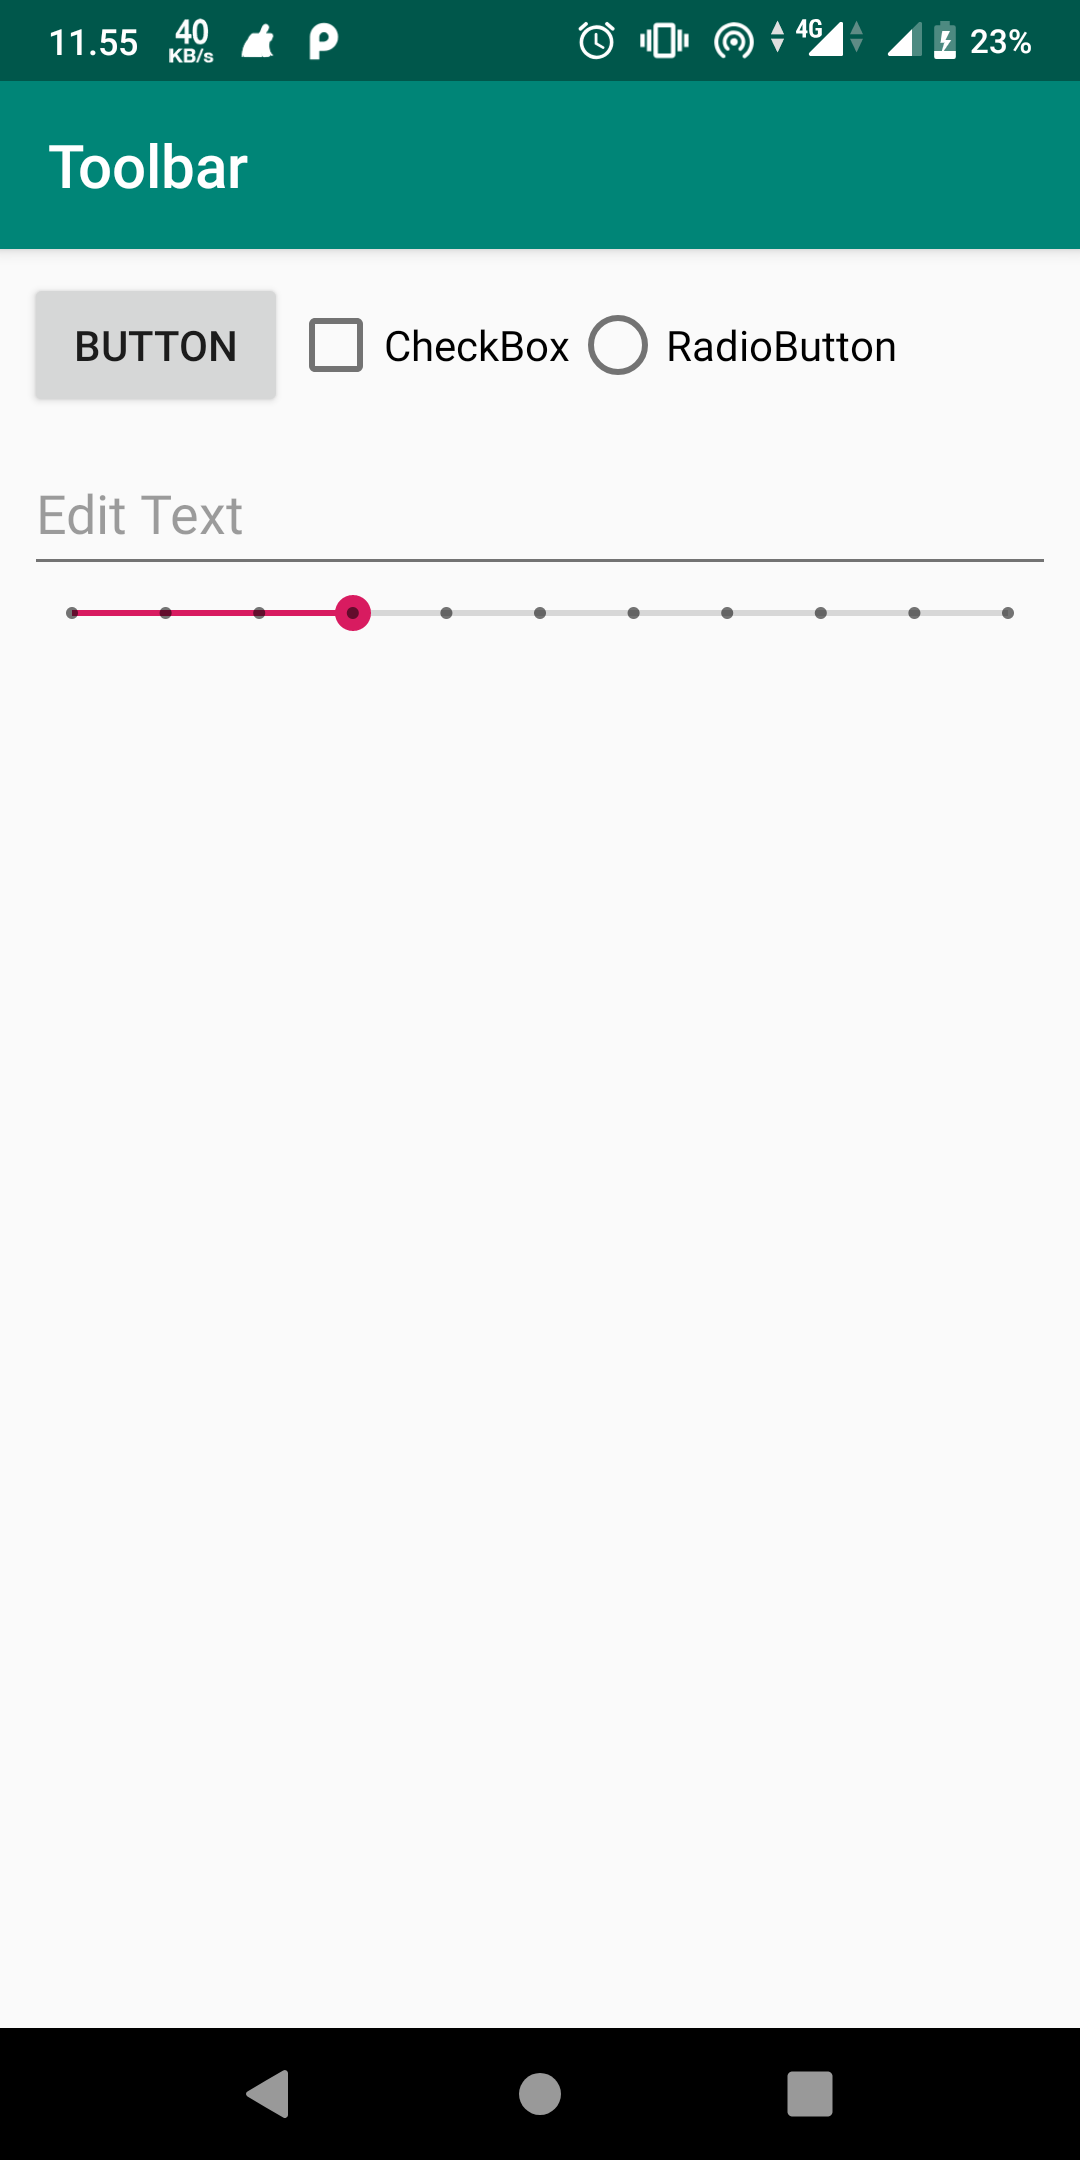button: (25, 287, 291, 415)
checkBox: (303, 311, 573, 380)
editText: (25, 479, 1061, 580)
radioButton: (583, 302, 904, 383)
slider: (61, 592, 1039, 641)
toolbar: (6, 85, 1080, 247)
